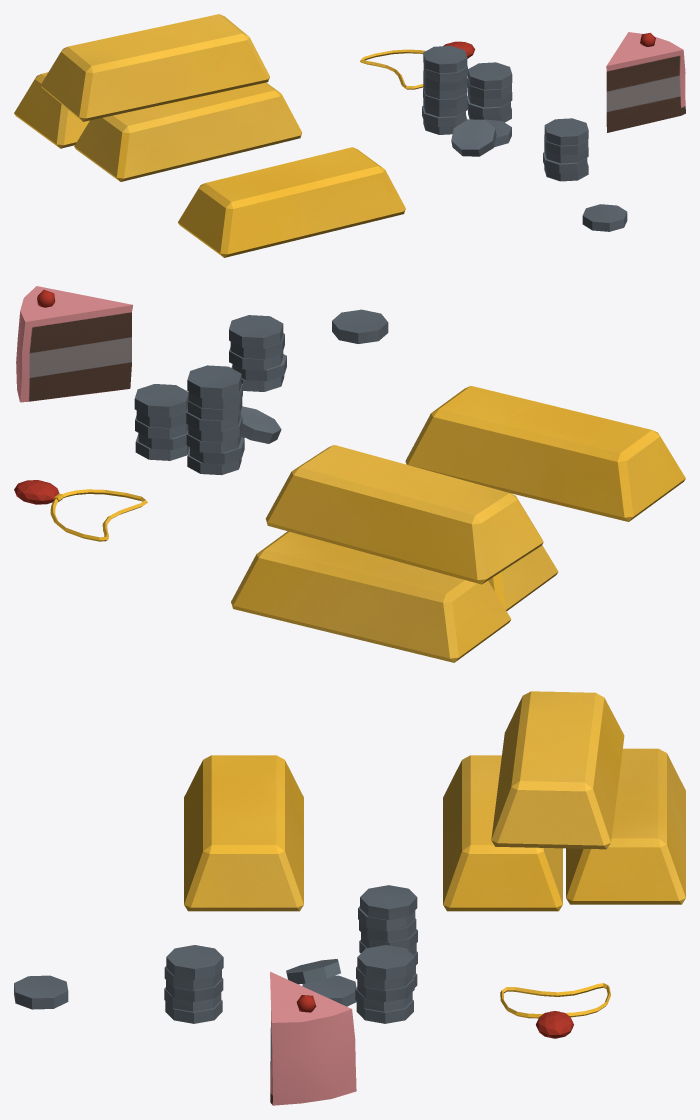
The model's file is loot.FBX.
3 views of the same model, one above another, from view 1: azimuth 30°, elevation 25°; view 2: azimuth 150°, elevation 25°; view 3: azimuth 270°, elevation 25° (orthographic). The views are drawn at different scales.
Parts seen in each view (by area): view 1: LootBarren3, LootBarren1, LootMoney5, LootCake, LootMoney3, LootMoney1, LootAmulett; view 2: LootBarren3, LootBarren1, LootCake, LootMoney5, LootMoney3, LootAmulett, LootMoney1; view 3: LootBarren3, LootBarren1, LootMoney5, LootCake, LootMoney3, LootAmulett, LootMoney1.
Part boxes in pixels (<box>): LootBarren3: <box>14,14,302,181</box>; LootBarren1: <box>178,147,405,257</box>; LootMoney5: <box>422,46,512,156</box>; LootCake: <box>606,32,685,132</box>; LootMoney3: <box>543,118,588,181</box>; LootMoney1: <box>582,204,627,231</box>; LootAmulett: <box>360,41,475,89</box>; LootBarren3: <box>231,445,558,662</box>; LootBarren1: <box>405,386,685,521</box>; LootCake: <box>16,286,133,402</box>; LootMoney5: <box>134,365,281,475</box>; LootMoney3: <box>229,315,286,391</box>; LootAmulett: <box>14,480,147,541</box>; LootMoney1: <box>332,309,388,343</box>; LootBarren3: <box>443,691,685,911</box>; LootBarren1: <box>184,755,303,911</box>; LootMoney5: <box>286,885,417,1023</box>; LootCake: <box>270,971,356,1105</box>; LootMoney3: <box>164,945,223,1023</box>; LootAmulett: <box>500,983,610,1038</box>; LootMoney1: <box>14,975,68,1009</box>.
Size of the model in its own units: 125 by 21.42 by 114.
